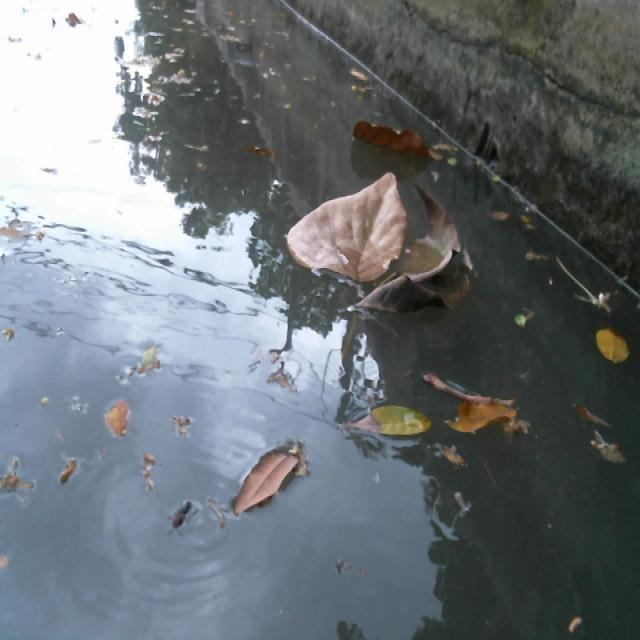Big-leaf: (359, 182, 484, 320), (279, 174, 407, 301), (437, 369, 536, 468), (355, 110, 459, 161)
Small-leaf: (214, 424, 321, 522), (579, 396, 635, 490), (348, 392, 432, 442), (592, 318, 638, 371), (485, 196, 541, 238), (98, 386, 134, 442), (241, 137, 282, 168)
